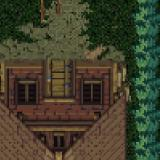Interaction: (35, 0, 66, 16)
Obstacle: (0, 6, 131, 160), (131, 0, 160, 160)
